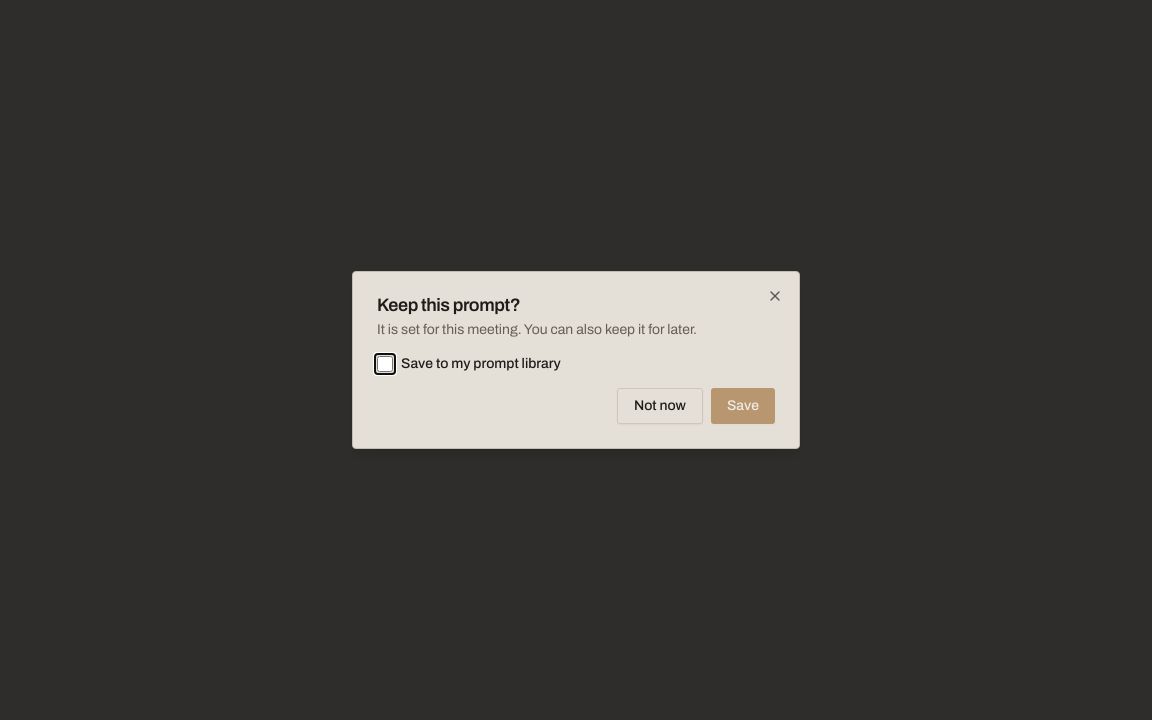
Test: SaveOneOffDialog (specs/0079 W4) › requires a name when saving to the library (prefilled, max 60)
Click the checkbox labelled "Save to my prompt library" at point(385, 364), box [377,356,393,372]
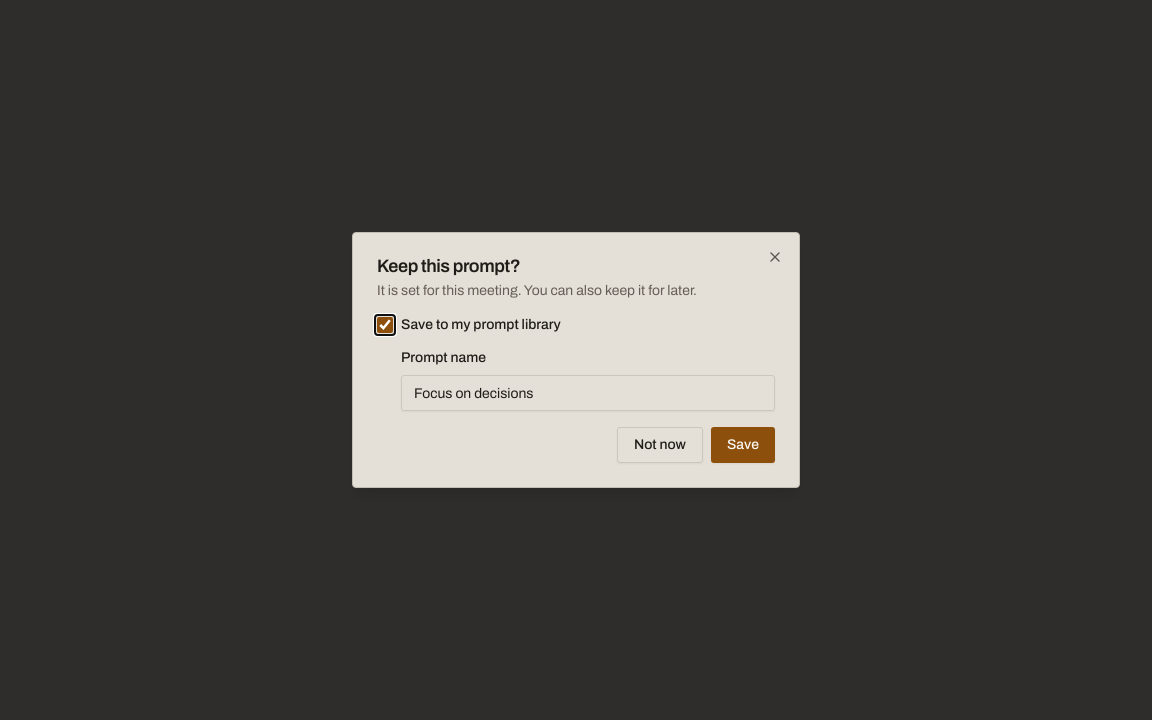
Expected: the field labelled "Prompt name" holds "Focus on decisions"
Clear the field labelled "Prompt name" at point(588, 393), box [401,375,775,411]
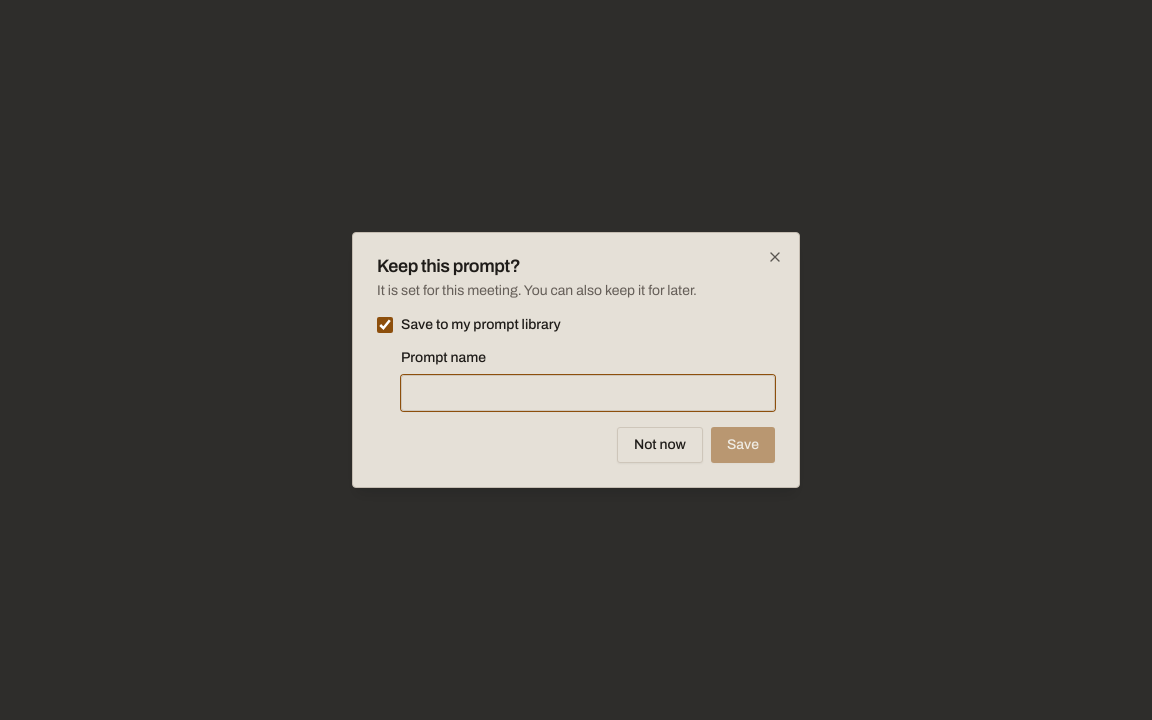
Expected: the button "Save" is disabled, [711,427,775,463]
Type "Mine" into the field labelled "Prompt name" at point(588, 393), box [401,375,775,411]
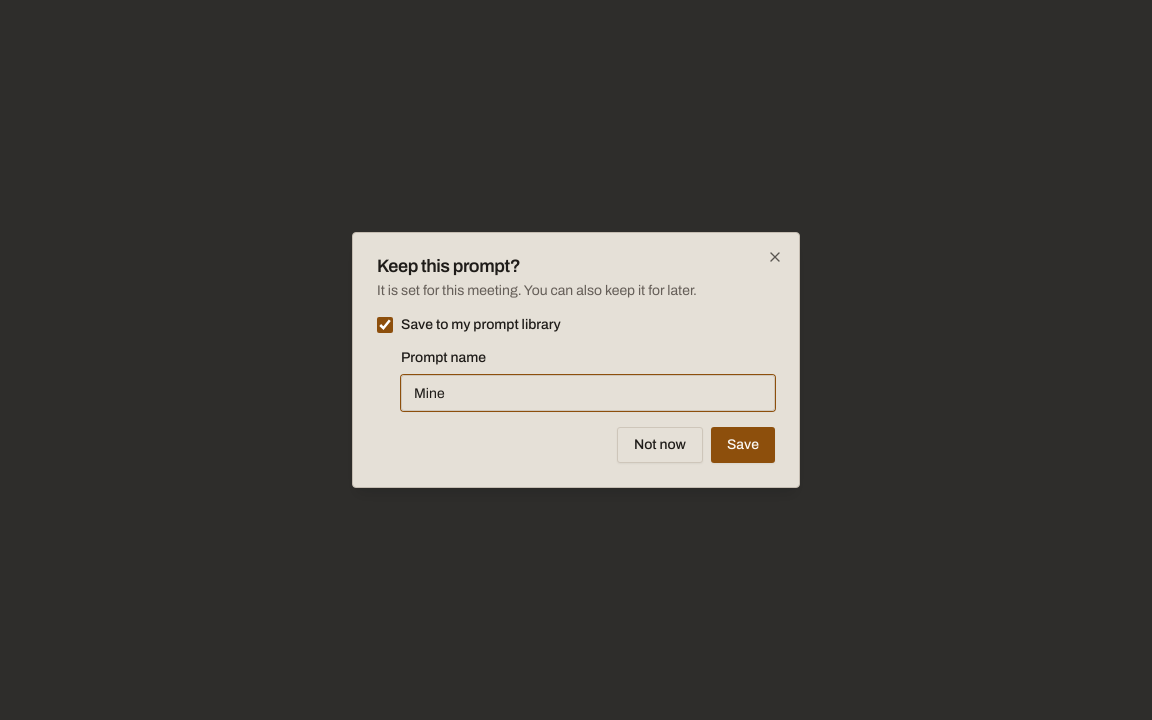
Expected: the button "Save" is enabled, [711,427,775,463]
